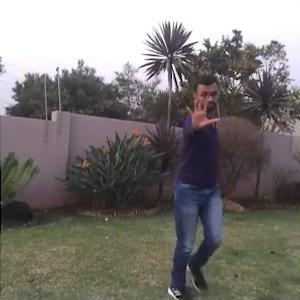follow_hand: (182, 90, 221, 132)
